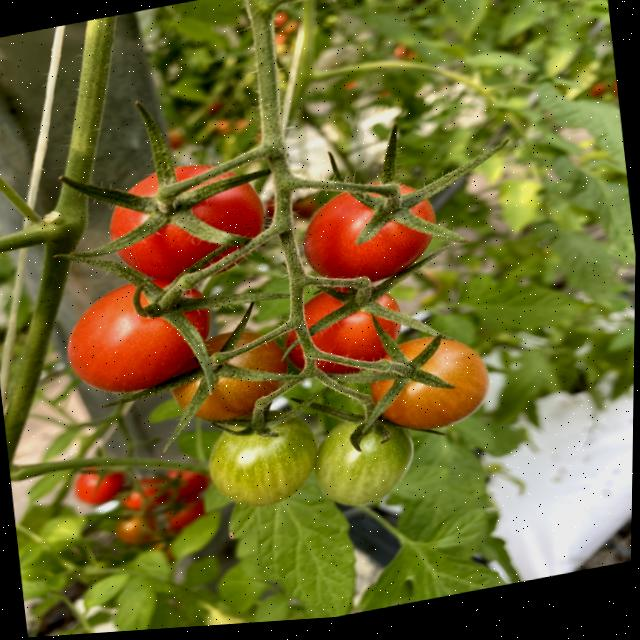ripe0: (201, 403, 319, 516), (314, 405, 419, 513)
ripe2: (103, 150, 268, 287), (61, 265, 217, 405), (300, 169, 441, 293), (364, 325, 495, 439)
